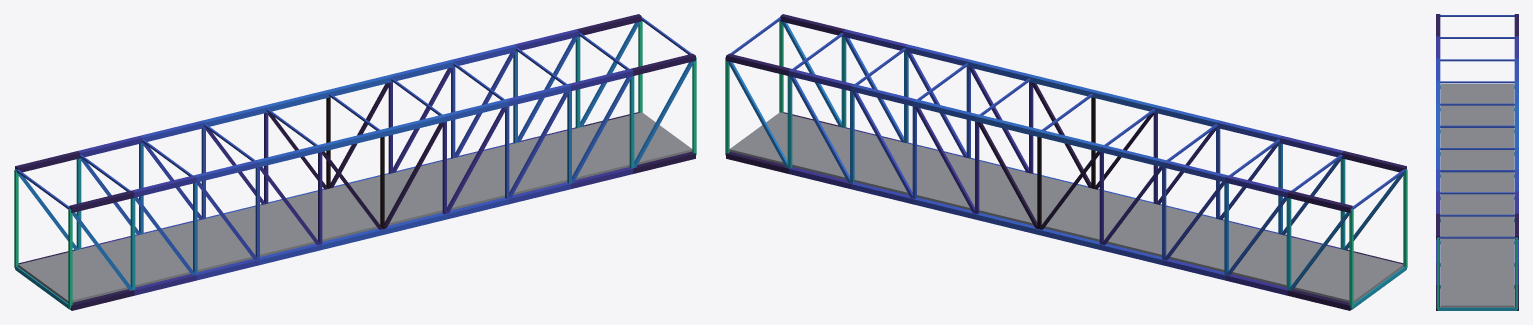
File: 20_3_10_HEA200.glb
3 renders of one model, left to right at view 1: azimuth 30°, elevation 25°; view 2: azimuth 150°, elevation 25°; view 3: azimuth 270°, elevation 25°, orthographic. The views are drawn at different scales.
Bounding box in the file's own units: 20.09 × 3.16 × 3.16.
